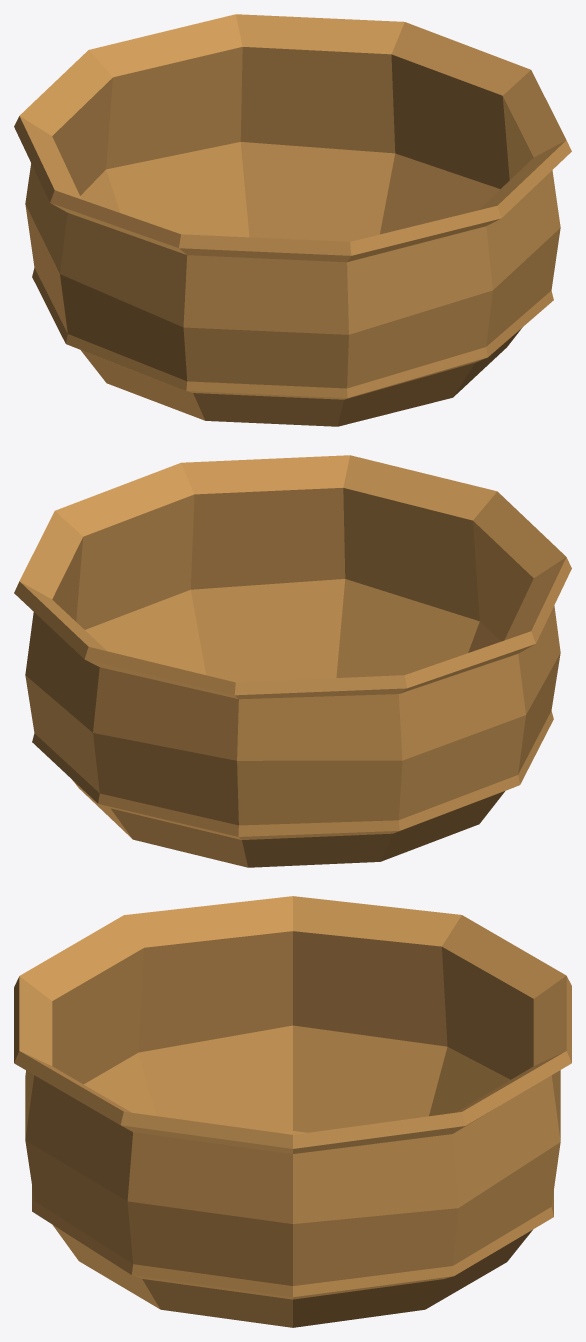
The model's file is SM_Prop_Gold_Bowl_Large_01.glb.
3 renders of one model, top to bottom at view 1: azimuth 30°, elevation 25°; view 2: azimuth 150°, elevation 25°; view 3: azimuth 270°, elevation 25°, orthographic. The views are drawn at different scales.
Parts seen in each view (by area): view 1: SM_Prop_Gold_Bowl_Large_01; view 2: SM_Prop_Gold_Bowl_Large_01; view 3: SM_Prop_Gold_Bowl_Large_01.
Boxes of the visible parts, x1,y1,x2,y2 form: SM_Prop_Gold_Bowl_Large_01: [14, 14, 571, 426]; SM_Prop_Gold_Bowl_Large_01: [14, 455, 571, 867]; SM_Prop_Gold_Bowl_Large_01: [14, 896, 571, 1327].
Bounding box in the file's own units: 1.36 × 0.5994 × 1.29.
1 material, 1 textured.
